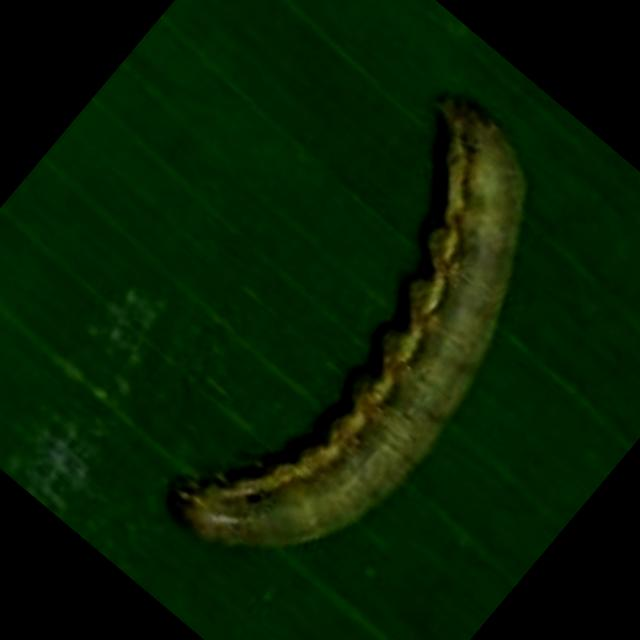Tobacco cutworm: (73, 34, 640, 640)
